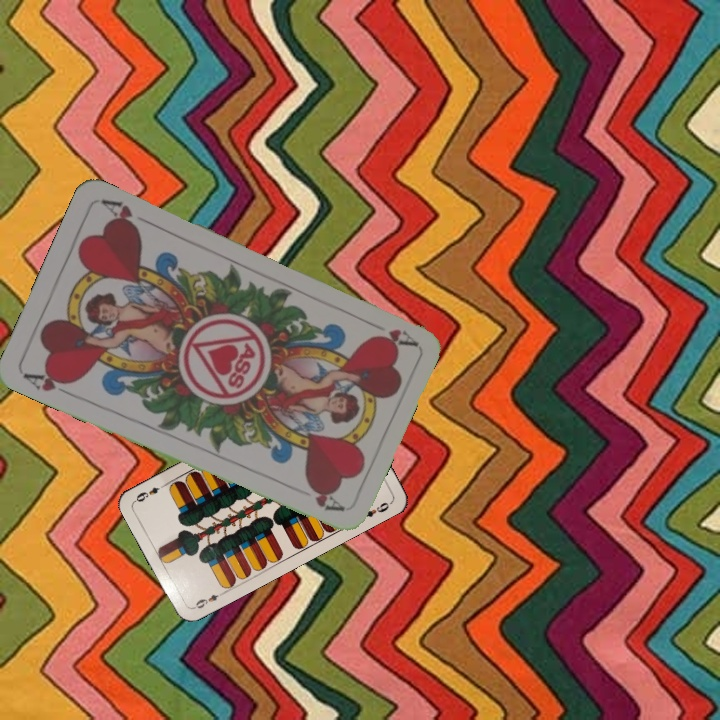E9: (189, 588, 227, 612)
HA: (361, 318, 418, 349), (19, 366, 77, 394)
